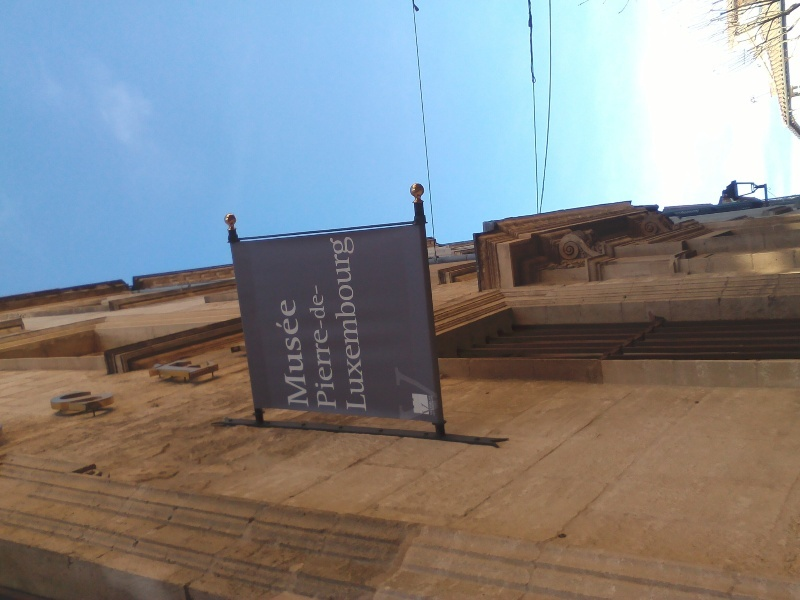text: (337, 234, 352, 413), (353, 234, 368, 413), (324, 234, 336, 413), (305, 284, 320, 411), (321, 284, 336, 411), (273, 297, 288, 408), (289, 297, 304, 408), (401, 366, 416, 423), (417, 366, 432, 423), (305, 297, 311, 408), (391, 366, 400, 423), (209, 353, 225, 380), (177, 353, 192, 380), (193, 353, 208, 380), (81, 385, 96, 411), (97, 385, 112, 411), (337, 284, 340, 411), (369, 234, 371, 413), (433, 366, 439, 423), (420, 402, 432, 416), (113, 385, 118, 411), (427, 393, 432, 418), (433, 393, 438, 418), (271, 297, 272, 408), (175, 353, 176, 380), (79, 385, 80, 411)
